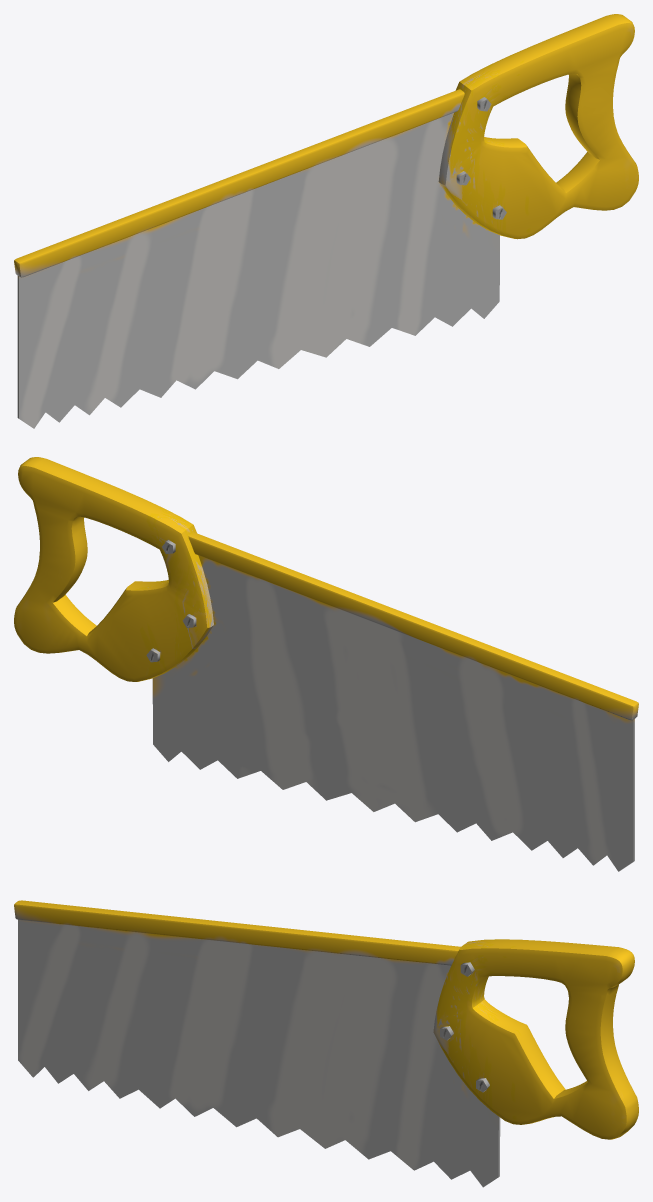
File: MA_Prop_Basic_Saw_For_Game.fbx
3 renders of one model, top to bottom at view 1: azimuth 30°, elevation 25°; view 2: azimuth 150°, elevation 25°; view 3: azimuth 330°, elevation 25°, orthographic.
Parts seen in each view (by area): view 1: Box001; view 2: Box001; view 3: Box001.
Boxes of the visible parts, left/top/right/bottom form: Box001: left=14, top=14, right=638, bottom=428; Box001: left=14, top=457, right=638, bottom=871; Box001: left=14, top=900, right=638, bottom=1187.
Size of the model in its own units: 117 by 48.42 by 6.32.
